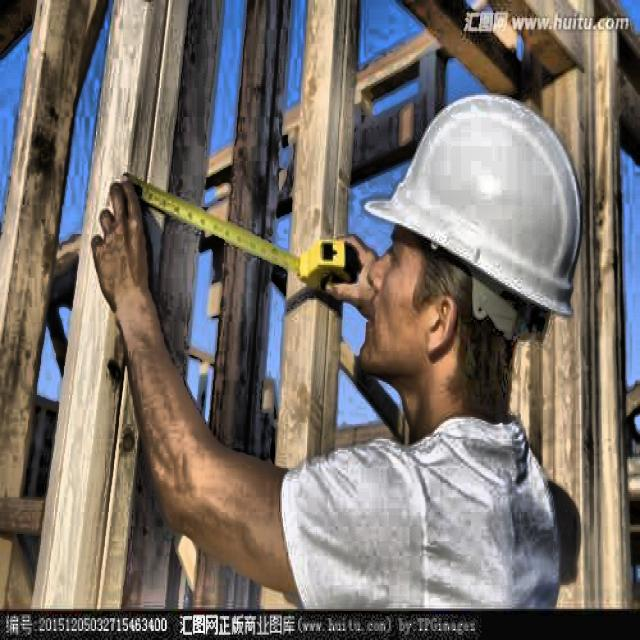helmet: (346, 44, 609, 444)
